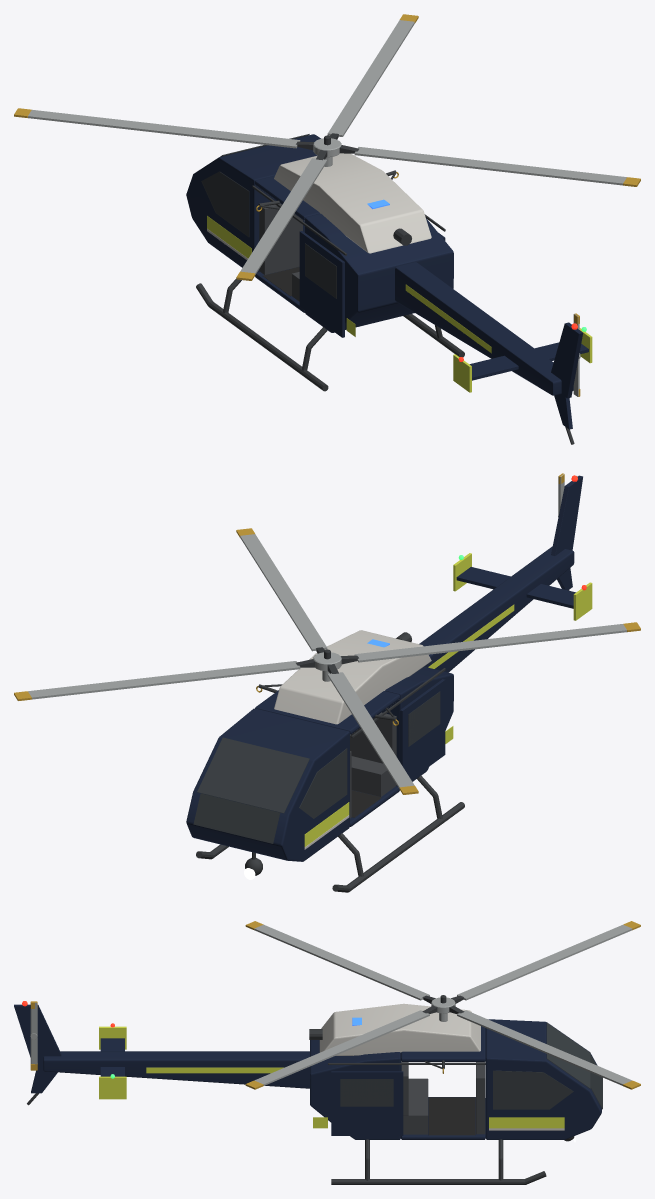
Rendered from prop_police_helicopter.glb.
The picture shows the model from 3 angles, top to bottom: view 1: azimuth 30°, elevation 25°; view 2: azimuth 150°, elevation 25°; view 3: azimuth 270°, elevation 25°; orthographic projection. The views are drawn at different scales.
Parts seen in each view (by area): view 1: Body, RotorBlades; view 2: Body, RotorBlades; view 3: Body, RotorBlades, TailRotorBlades.
Part boxes in pixels (x1,y1,x2,y2): Body: [186, 134, 592, 444]; RotorBlades: [14, 14, 640, 280]; Body: [186, 475, 592, 892]; RotorBlades: [14, 528, 640, 794]; Body: [14, 1001, 602, 1184]; RotorBlades: [245, 921, 640, 1089]; TailRotorBlades: [30, 1001, 37, 1070].
Size of the model in its own units: 6.52 by 2.92 by 10.34.
